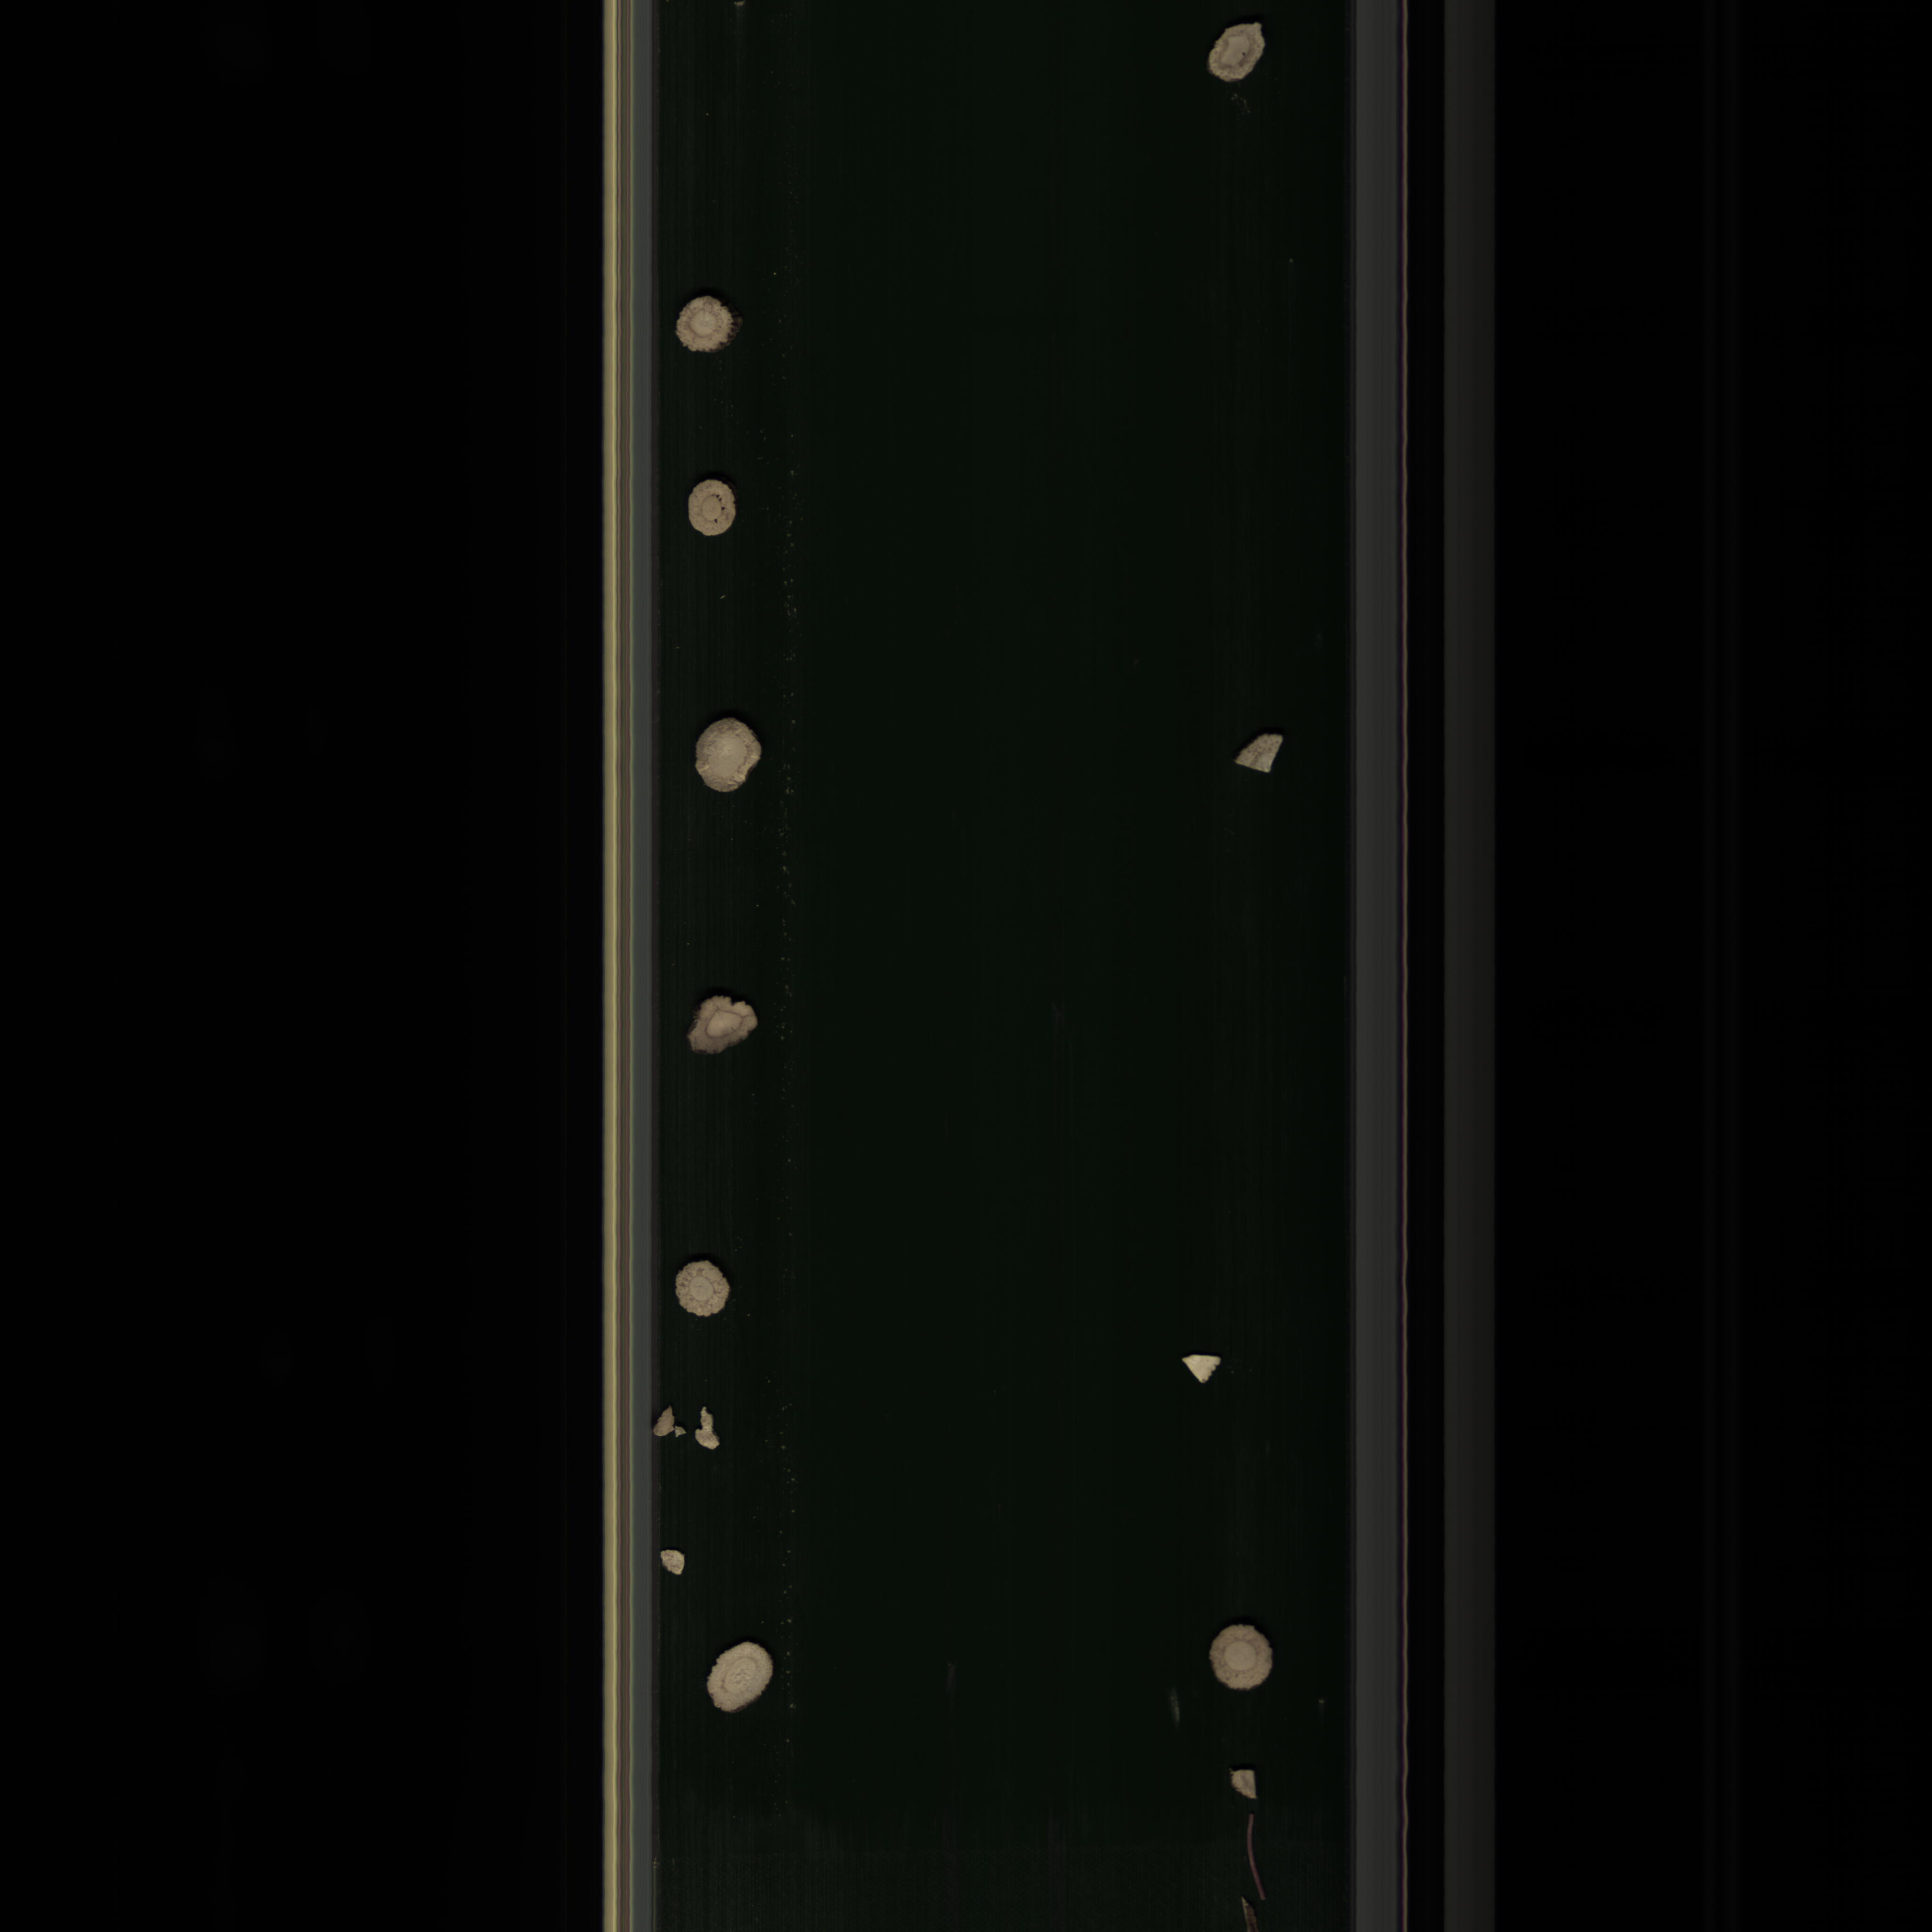debris: (651, 1403, 722, 1456), (1228, 727, 1292, 784), (1171, 1346, 1226, 1398), (1224, 1764, 1261, 1803), (655, 1545, 686, 1580)
distortion: (683, 989, 761, 1067)
moldy: (1192, 12, 1276, 101)
